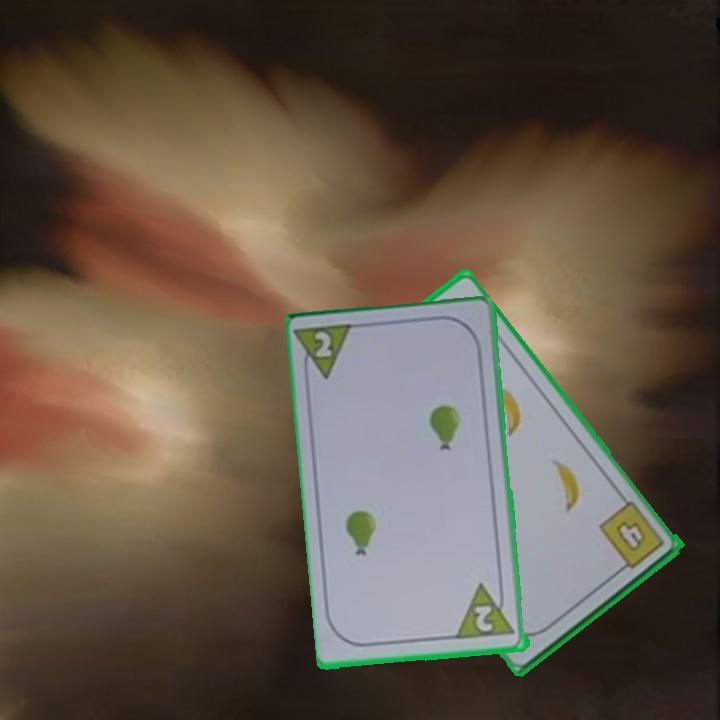2p: (472, 602, 498, 635), (312, 328, 336, 361)
4b: (594, 497, 668, 577)
